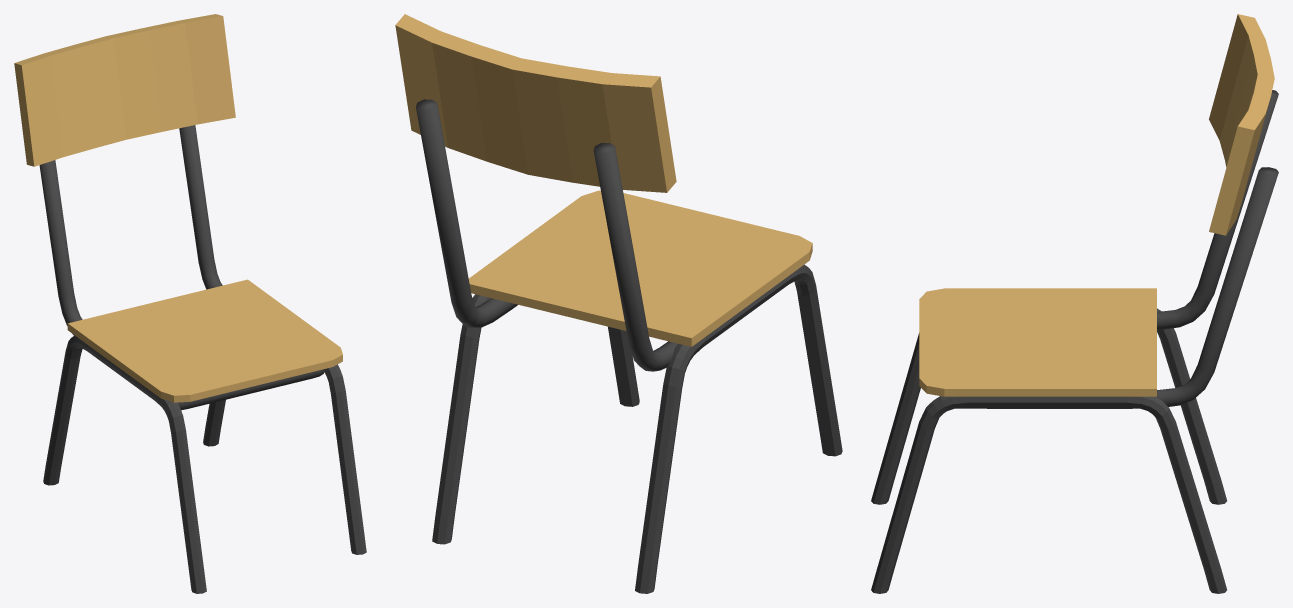
Rendered from Student chair.fbx.
3 views of the same model, side by side, from view 1: azimuth 30°, elevation 25°; view 2: azimuth 150°, elevation 25°; view 3: azimuth 270°, elevation 25° (orthographic). The views are drawn at different scales.
Visible parts, largest first — view 1: Student chair; view 2: Student chair; view 3: Student chair.
Part boxes in pixels (x1,y1,x2,y2): Student chair: (14,14,366,593); Student chair: (395,14,842,593); Student chair: (871,14,1278,593).
Bounding box in the file's own units: 44.94 × 88.61 × 68.92.
